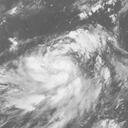cyclone: (19, 28, 105, 106)
